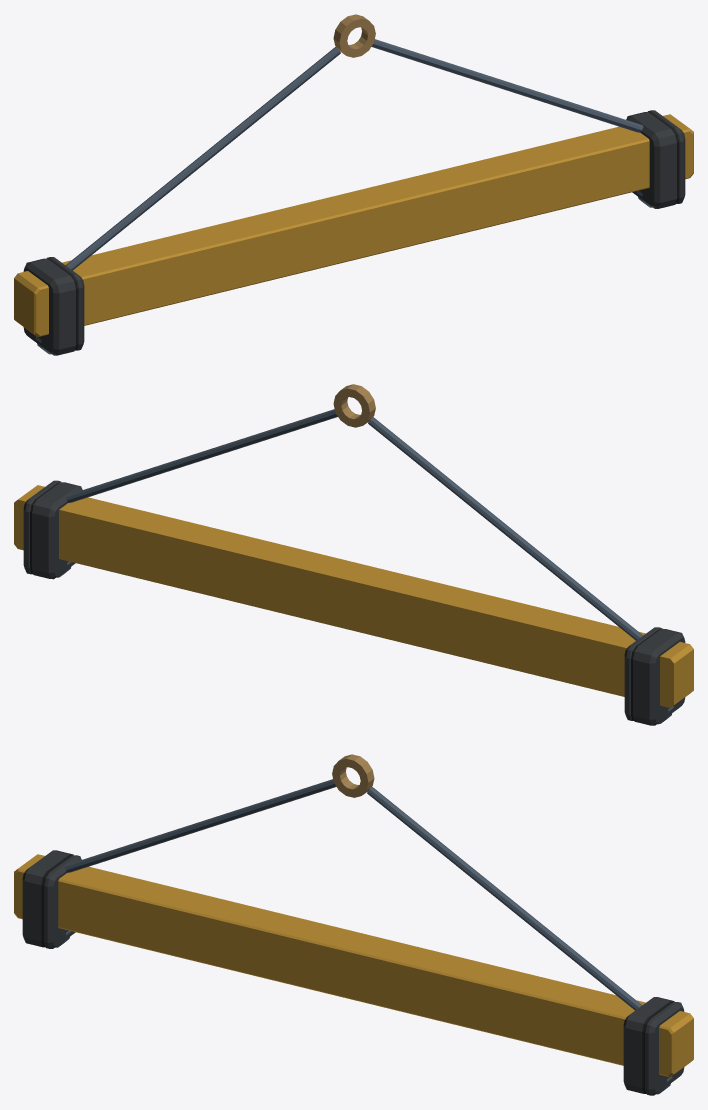
The model's file is C-03_spreader.glb.
The picture shows the model from 3 angles, top to bottom: view 1: azimuth 30°, elevation 25°; view 2: azimuth 150°, elevation 25°; view 3: azimuth 330°, elevation 25°; orthographic projection.
Visible parts, largest first — view 1: C-03_spreader; view 2: C-03_spreader; view 3: C-03_spreader.
Boxes of the visible parts, box(x1,y1,x2,y2) form: C-03_spreader: box(14, 14, 693, 355); C-03_spreader: box(14, 384, 693, 725); C-03_spreader: box(14, 754, 693, 1095).
Size of the model in its own units: 2.1 by 0.7955 by 0.188.
